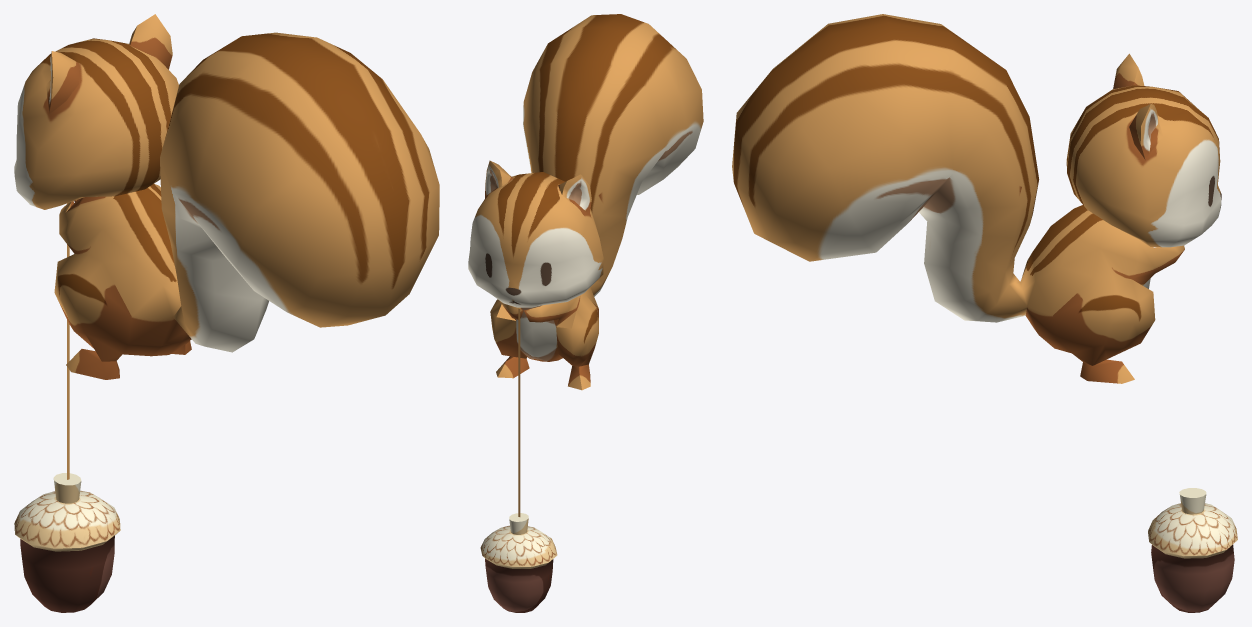
File: roof_11_1.FBX
3 views of the same model, side by side, from view 1: azimuth 30°, elevation 25°; view 2: azimuth 150°, elevation 25°; view 3: azimuth 270°, elevation 25° (orthographic). The views are drawn at different scales.
Parts seen in each view (by area): view 1: 1; view 2: 1; view 3: 1.
Boxes of the visible parts, x1,y1,x2,y2 form: 1: (14, 14, 439, 612); 1: (468, 14, 703, 612); 1: (732, 14, 1237, 612).
Bounding box in the file's own units: 37.12 × 101 × 76.39.
